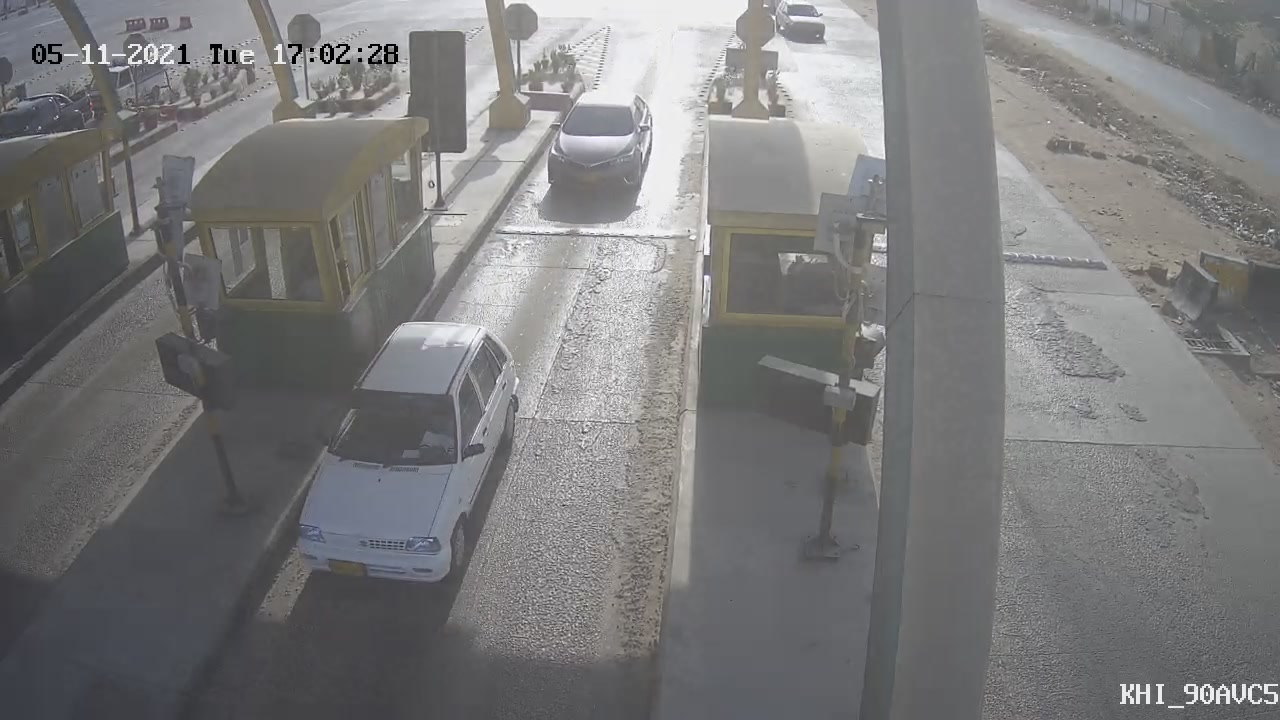F1: (277, 301, 547, 607), (526, 66, 678, 218)
